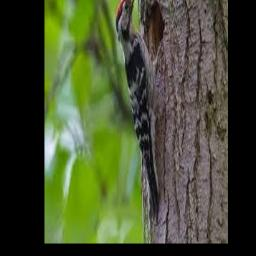Woodpecker: (116, 0, 164, 222)
